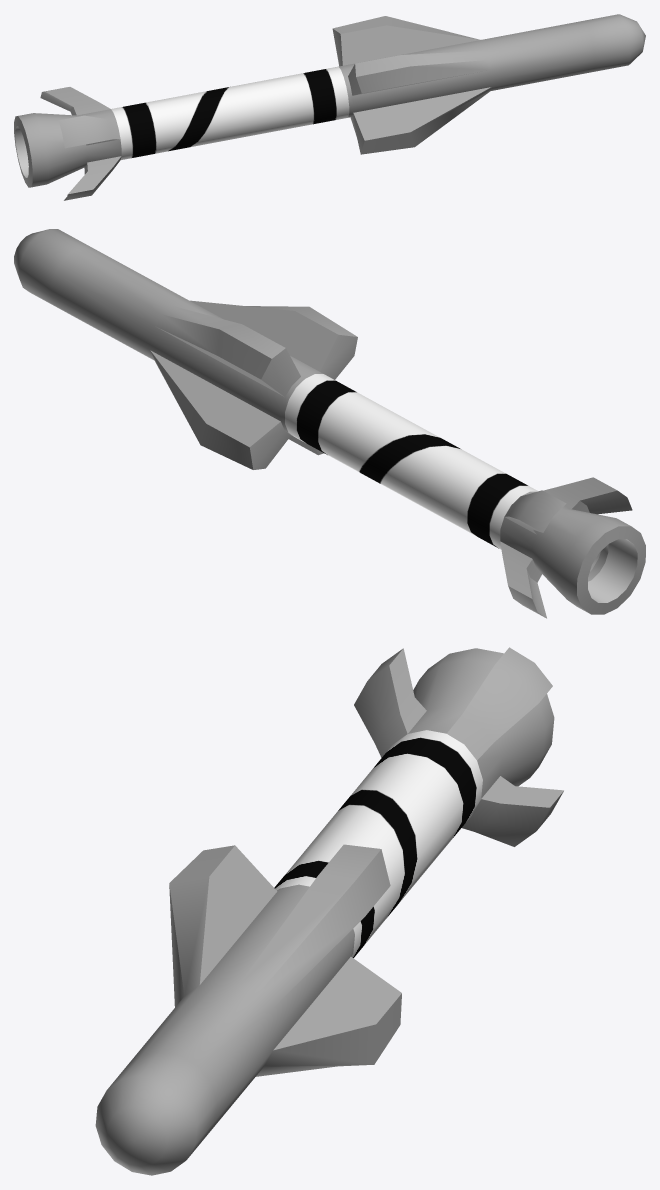
Rendered from Second_Rocket.fbx.
3 views of the same model, one above another, from view 1: azimuth 30°, elevation 25°; view 2: azimuth 150°, elevation 25°; view 3: azimuth 270°, elevation 25° (orthographic). The views are drawn at different scales.
Visible parts, largest first — view 1: Cylinder_1; view 2: Cylinder_1; view 3: Cylinder_1.
Boxes of the visible parts, x1=… form: Cylinder_1: x1=14, y1=14, x2=645, y2=200; Cylinder_1: x1=14, y1=229, x2=645, y2=618; Cylinder_1: x1=95, y1=647, x2=563, y2=1175.
Bounding box in the file's own units: 2.44 × 0.5285 × 0.9115.
